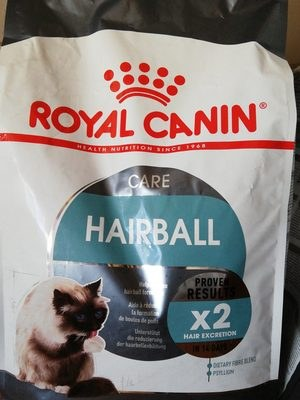Royal Canin Hairball Care: (15, 20, 285, 380)
